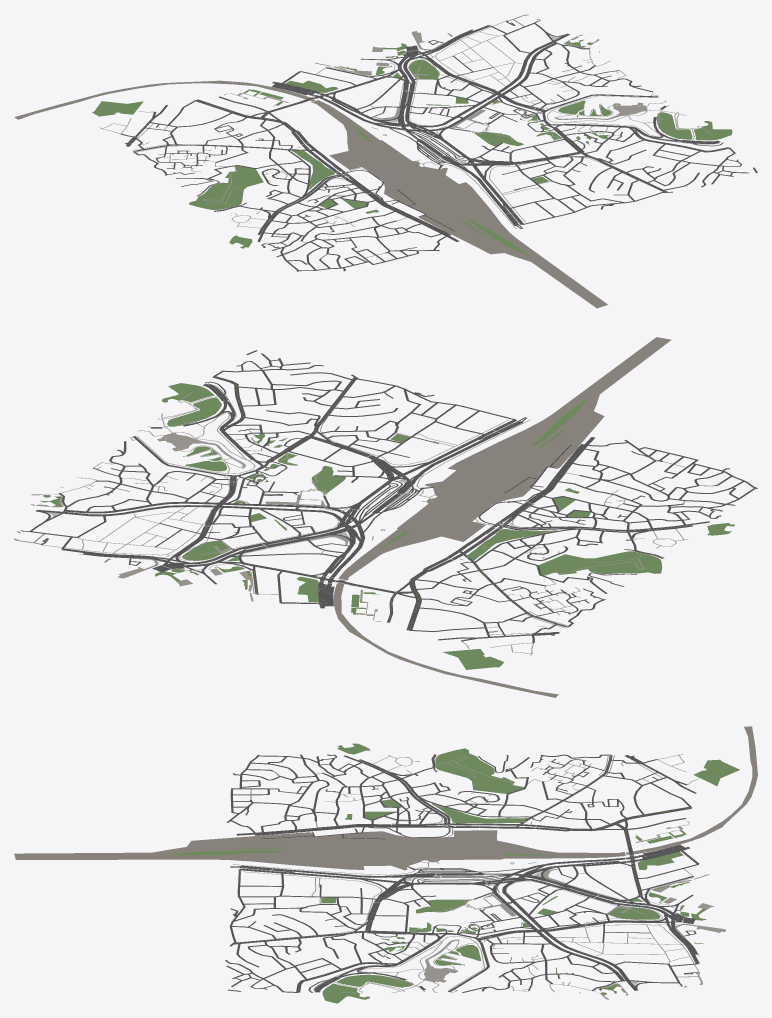
The model's file is existing_roads.glb.
The picture shows the model from 3 angles, top to bottom: view 1: azimuth 30°, elevation 25°; view 2: azimuth 150°, elevation 25°; view 3: azimuth 270°, elevation 25°; orthographic projection. The views are drawn at different scales.
Parts seen in each view (by area): view 1: G_Roads_Asphalt.001, G_Area_railyard.001, G_Area_green.001, G_Footways.001, G_Roads_Curb.001, G_Area_pedestrian.001; view 2: G_Roads_Asphalt.001, G_Area_railyard.001, G_Area_green.001, G_Footways.001, G_Roads_Curb.001, G_Area_pedestrian.001; view 3: G_Roads_Asphalt.001, G_Area_railyard.001, G_Area_green.001, G_Footways.001, G_Roads_Curb.001, G_Area_pedestrian.001.
Part boxes in pixels (left/top/right/bottom): G_Roads_Asphalt.001: left=120, top=20, right=757, bottom=271; G_Area_railyard.001: left=14, top=80, right=607, bottom=308; G_Area_green.001: left=92, top=18, right=732, bottom=257; G_Footways.001: left=99, top=19, right=719, bottom=258; G_Roads_Curb.001: left=128, top=22, right=746, bottom=271; G_Area_pedestrian.001: left=224, top=14, right=647, bottom=128; G_Roads_Asphalt.001: left=20, top=350, right=757, bottom=642; G_Area_railyard.001: left=333, top=337, right=671, bottom=697; G_Area_green.001: left=17, top=383, right=734, bottom=669; G_Footways.001: left=34, top=383, right=713, bottom=655; G_Roads_Curb.001: left=27, top=354, right=752, bottom=642; G_Area_pedestrian.001: left=14, top=432, right=380, bottom=621; G_Roads_Asphalt.001: left=225, top=754, right=699, bottom=992; G_Area_railyard.001: left=14, top=726, right=757, bottom=870; G_Area_green.001: left=163, top=743, right=739, bottom=1003; G_Footways.001: left=232, top=754, right=699, bottom=993; G_Roads_Curb.001: left=230, top=754, right=698, bottom=992; G_Area_pedestrian.001: left=423, top=821, right=725, bottom=999.
Size of the model in its own units: 1716 by 8.2 by 1947.
